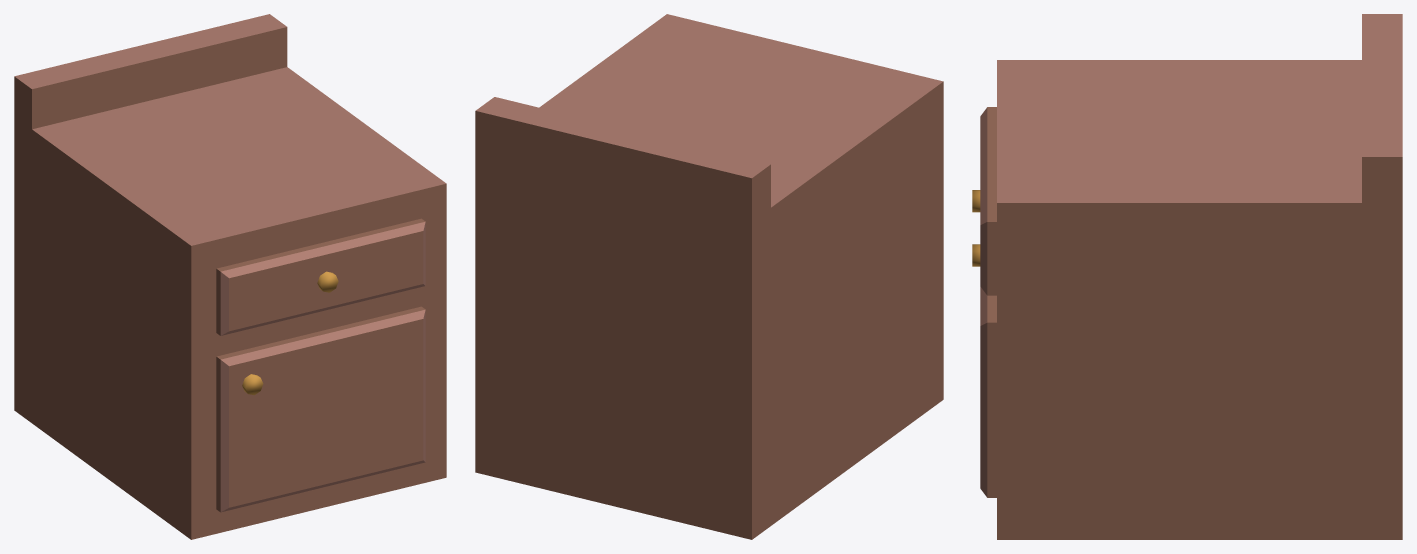
File: kitchen counter.fbx
The picture shows the model from 3 angles, left to right: view 1: azimuth 30°, elevation 25°; view 2: azimuth 150°, elevation 25°; view 3: azimuth 270°, elevation 25°; orthographic projection. The views are drawn at different scales.
Visible parts, largest first — view 1: counter; view 2: counter; view 3: counter.
Part boxes in pixels (box(x1,y1,x2,y2)): counter: box(14, 14, 446, 539); counter: box(475, 14, 943, 539); counter: box(972, 14, 1402, 539).
Size of the model in its own units: 2 by 2.5 by 2.55.
